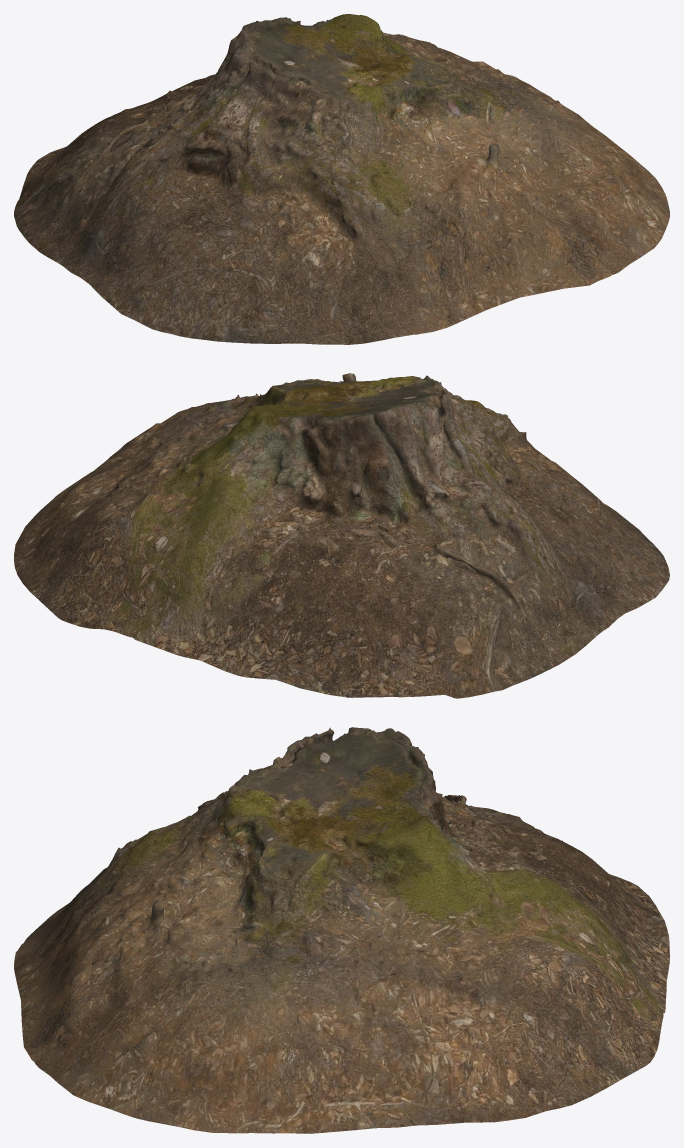
File: tree_stump_02.glb
3 views of the same model, one above another, from view 1: azimuth 30°, elevation 25°; view 2: azimuth 150°, elevation 25°; view 3: azimuth 270°, elevation 25° (orthographic). The views are drawn at different scales.
Visible parts, largest first — view 1: tree_stump_02; view 2: tree_stump_02; view 3: tree_stump_02.
Part boxes in pixels (x1=…): tree_stump_02: x1=14, y1=14, x2=669, y2=344; tree_stump_02: x1=14, y1=373, x2=669, y2=698; tree_stump_02: x1=14, y1=727, x2=669, y2=1133.
Size of the model in its own units: 1.52 by 0.5221 by 1.39.
Materials: 1 (1 with a texture image).
